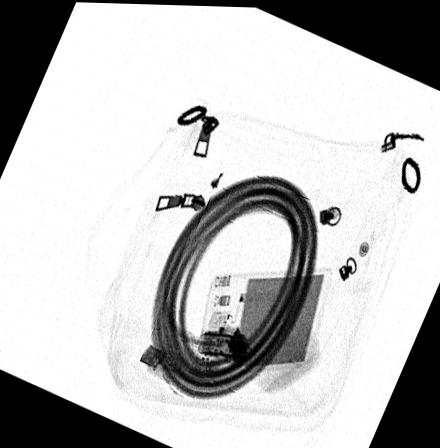Powerbank: (194, 265, 330, 367)
